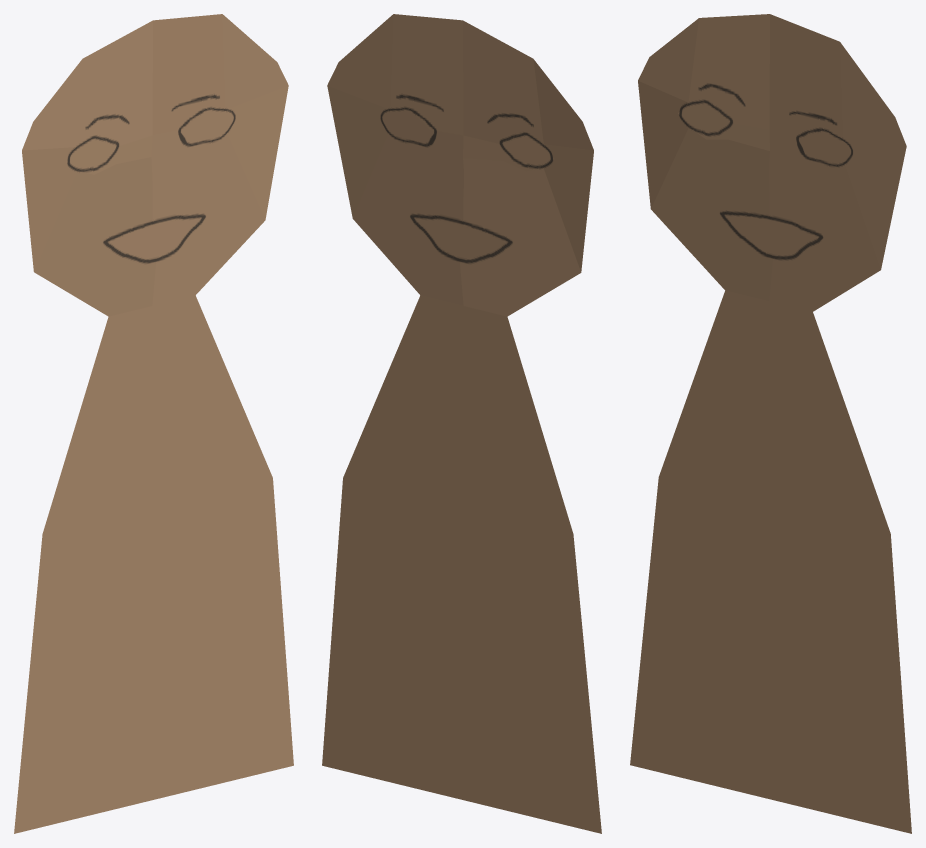
The model's file is basic_avatar_idea.glb.
3 views of the same model, side by side, from view 1: azimuth 30°, elevation 25°; view 2: azimuth 150°, elevation 25°; view 3: azimuth 330°, elevation 25° (orthographic).
Parts seen in each view (by area): view 1: Plane; view 2: Plane; view 3: Plane.
Part boxes in pixels (box(x1,y1,x2,y2)): Plane: box(14, 14, 293, 833); Plane: box(322, 14, 601, 833); Plane: box(630, 14, 911, 833).
Bounding box in the file's own units: 2 × 5.32 × 0.0392.
Materials: 1 (1 with a texture image).
